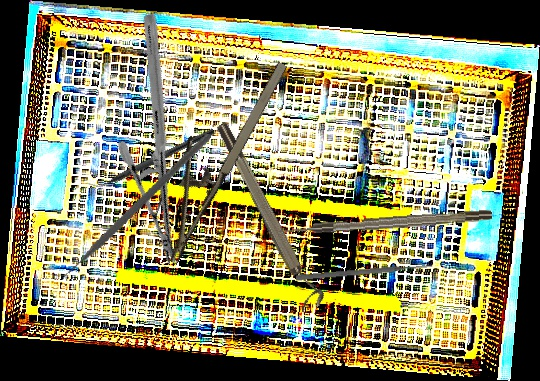Chopper: (47, 104, 212, 305), (85, 119, 216, 197)
Fixation Ring: (213, 116, 328, 314)
Hook Surgical: (279, 209, 493, 237)
Needle Holder: (44, 10, 276, 268), (129, 42, 294, 265)
Pusher: (295, 262, 434, 282)
